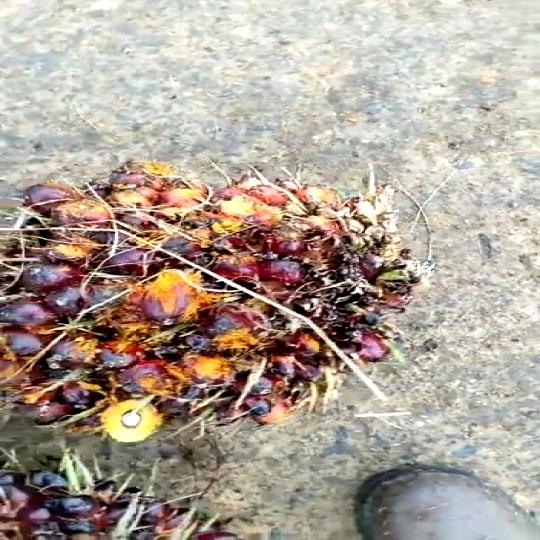masak: (0, 157, 423, 455)
